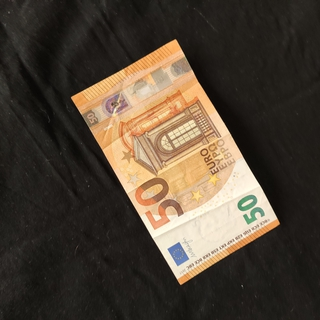50EUROFront: (69, 37, 281, 286)
